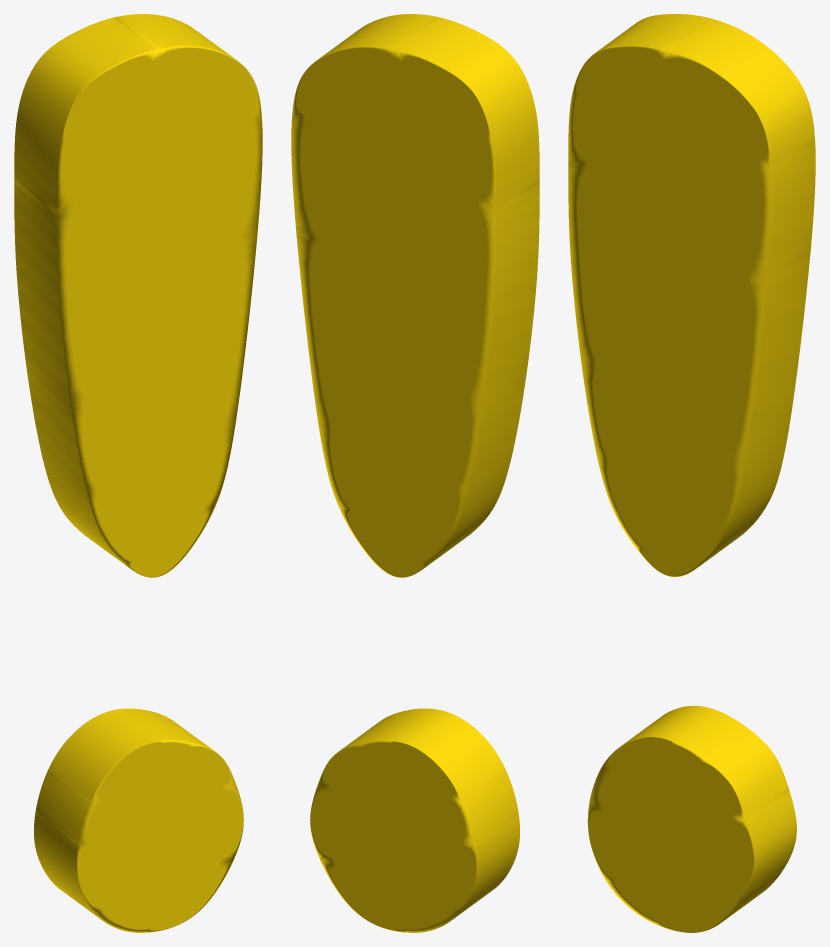
Rendered from exclamation_of_mission.glb.
The picture shows the model from 3 angles, left to right: view 1: azimuth 30°, elevation 25°; view 2: azimuth 150°, elevation 25°; view 3: azimuth 330°, elevation 25°; orthographic projection.
Parts seen in each view (by area): view 1: Object_2, Object_3; view 2: Object_2, Object_3; view 3: Object_2, Object_3.
Boxes of the visible parts, <box> form: Object_2: <box>14,14,262,577</box>; Object_3: <box>34,708,243,932</box>; Object_2: <box>291,14,539,577</box>; Object_3: <box>310,708,519,932</box>; Object_2: <box>568,14,815,576</box>; Object_3: <box>587,705,796,932</box>.
Size of the model in its own units: 14.09 by 57.79 by 5.06.
